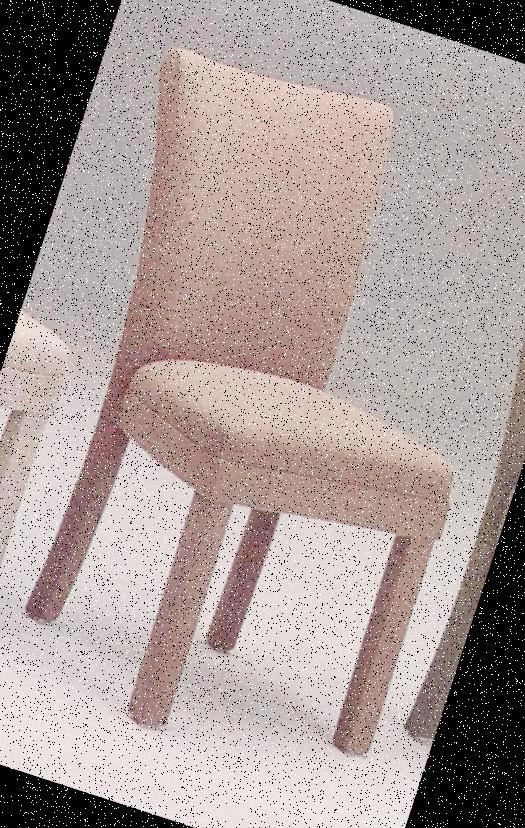Silla: (0, 47, 524, 789)
